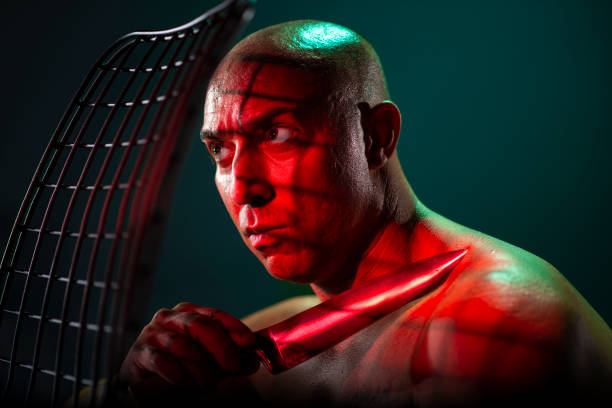knife: (248, 243, 472, 376)
